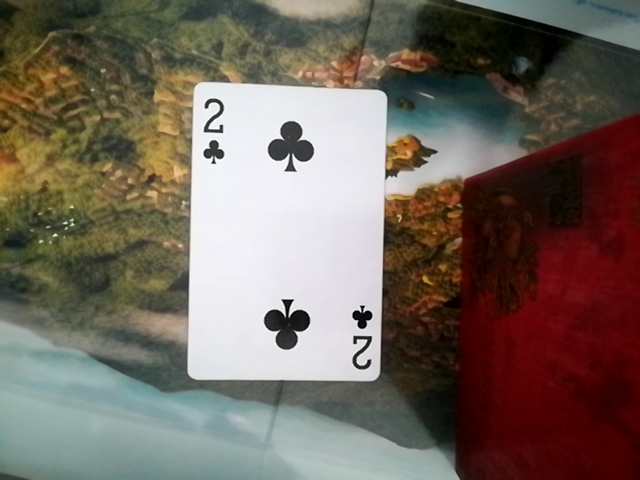mh 2: (180, 79, 390, 389)
